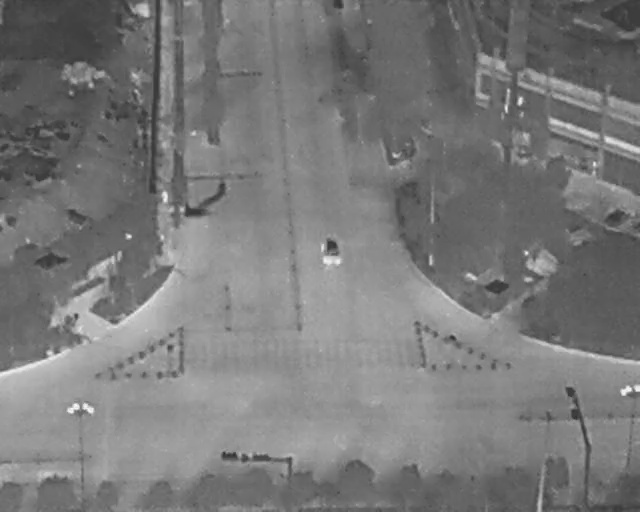Car: (599, 202, 630, 232), (320, 237, 345, 270)
